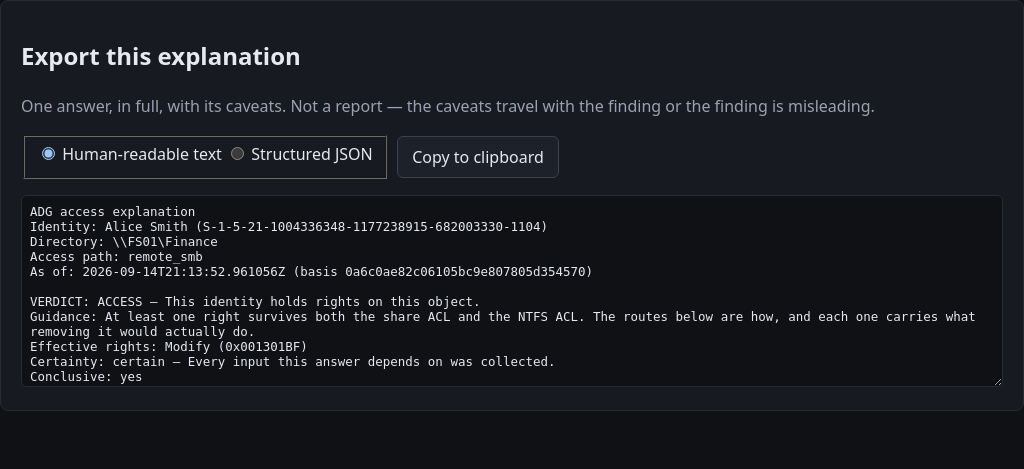
Scenario: the export › says so when the browser refuses clipboard access
Click the button "Copy to clipboard" at (478, 157), box [397,136,559,178]
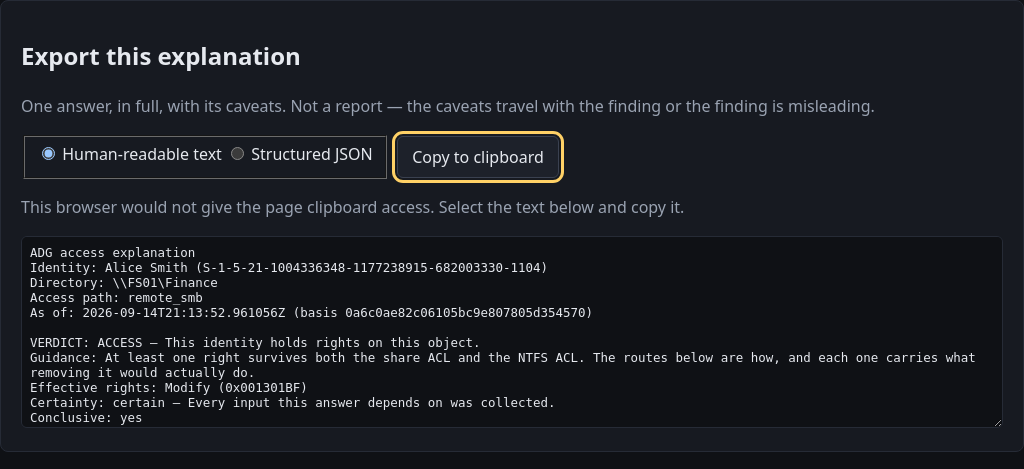
Expected: the text "Select the text below and copy it" is shown, [21,196,684,218]
